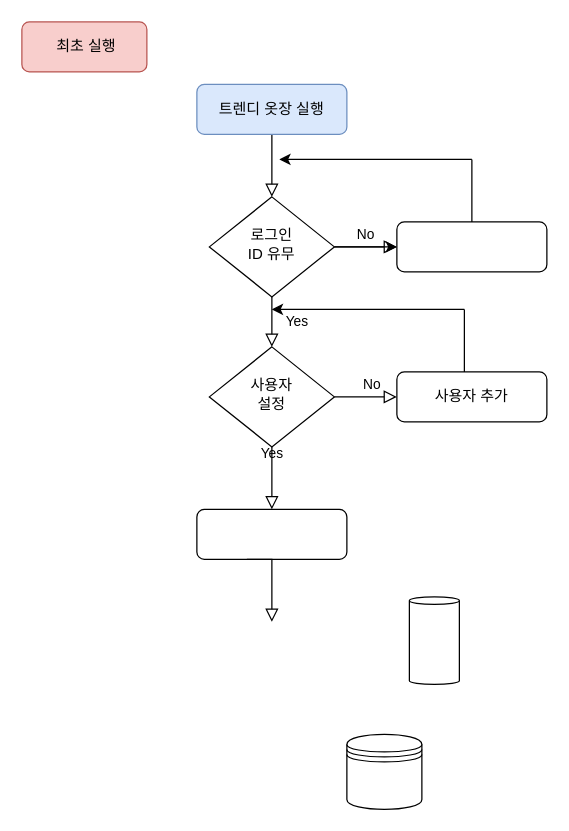
The diagram is 569 pixels wide and 831 high, and some of its shapes have lost their labels. Each missing label, with the centre of its shape:
옷장 속 옷 이미지 입력: (271,533)
회원가입: (471,246)
